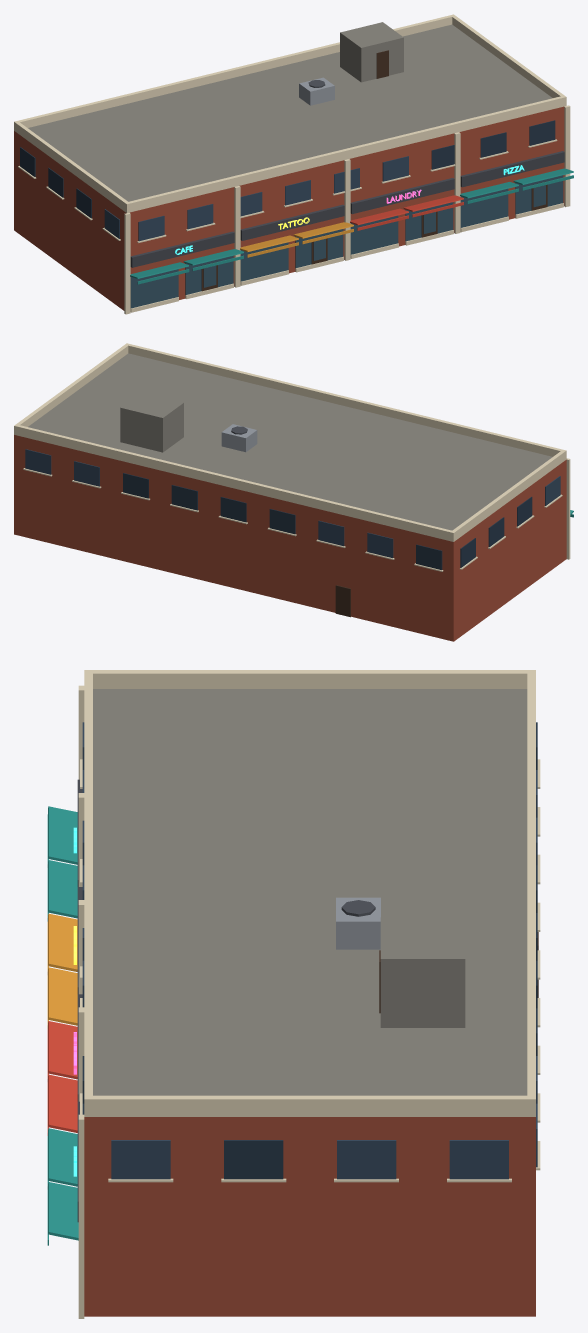
Rendered from shop_d.glb.
3 renders of one model, top to bottom at view 1: azimuth 30°, elevation 25°; view 2: azimuth 150°, elevation 25°; view 3: azimuth 270°, elevation 25°, orthographic. The views are drawn at different scales.
Parts seen in each view (by area): view 1: shop_d; view 2: shop_d; view 3: shop_d.
Boxes of the visible parts, x1,y1,x2,y2 form: shop_d: [14, 14, 573, 314]; shop_d: [14, 343, 573, 641]; shop_d: [47, 670, 540, 1318].
Size of what is drawn, in the model's own units: 36.4 by 10.6 by 17.47.
